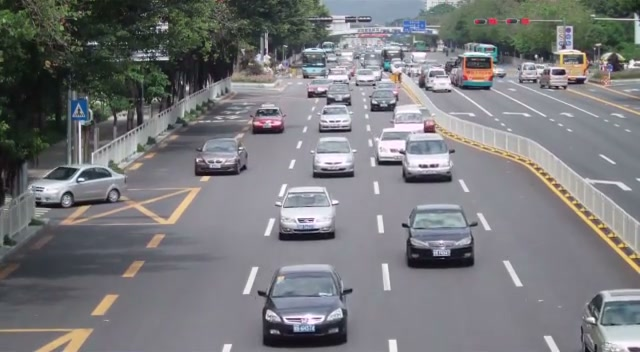bus: (449, 52, 495, 89)
car: (257, 264, 353, 347), (401, 203, 478, 268), (30, 164, 127, 208), (580, 288, 640, 352), (274, 184, 339, 240), (401, 132, 454, 183), (193, 137, 247, 176), (312, 135, 356, 178), (374, 127, 422, 166), (251, 105, 285, 134), (318, 104, 352, 132), (326, 81, 352, 107), (370, 88, 397, 111)
truck: (554, 49, 589, 84), (539, 67, 568, 90)
